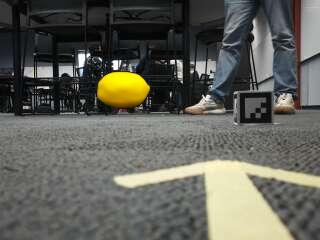lemon: (98, 73, 149, 109)
